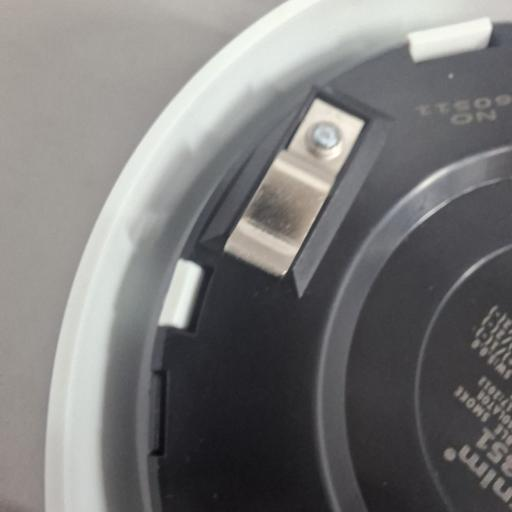yaysiz: (220, 96, 364, 281)
